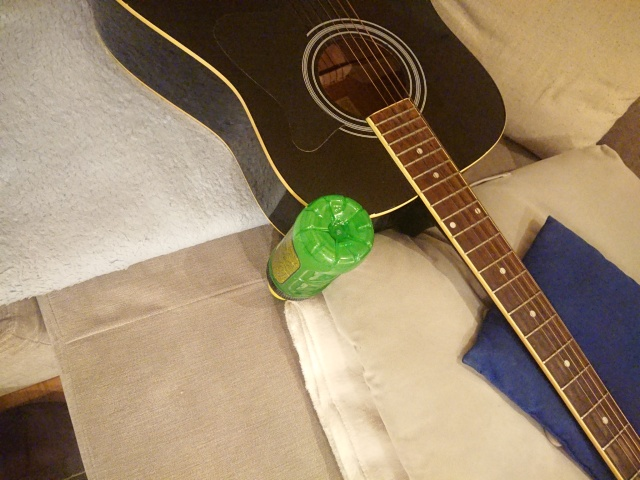Vindi Iso Sport Lemon-Grapefruit 500mL: (263, 192, 377, 304)
